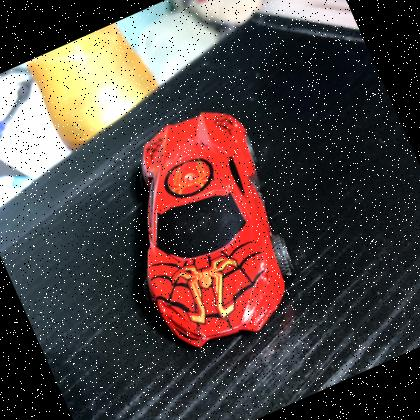Car: (79, 85, 336, 375)
